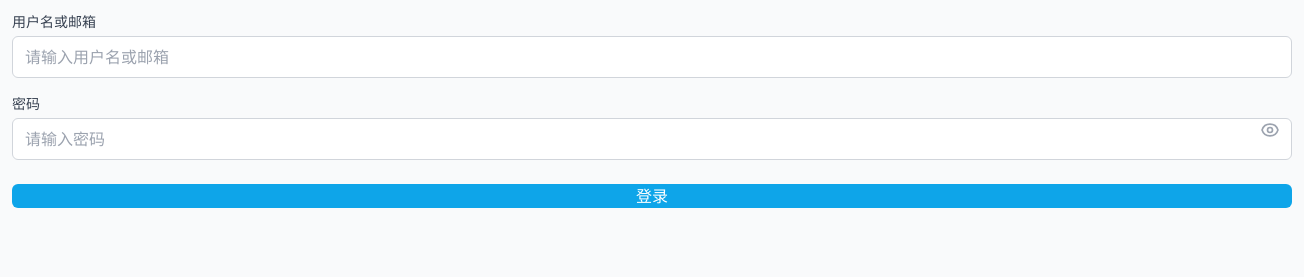
Scenario: LoginForm - 表单验证 › 无效的邮箱格式应该显示错误提示
In the field labelled "用户名或邮箱": x=652, y=57 [12,36,1292,78], type "invalid@"
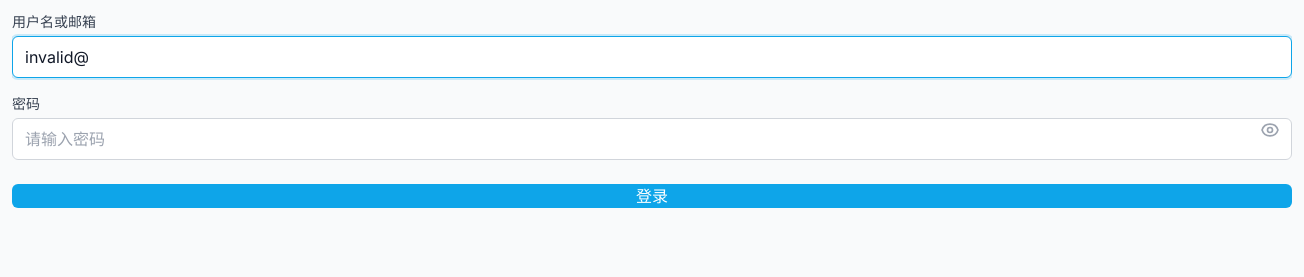
Click the button "登录": x=652, y=196 [12,184,1292,208]
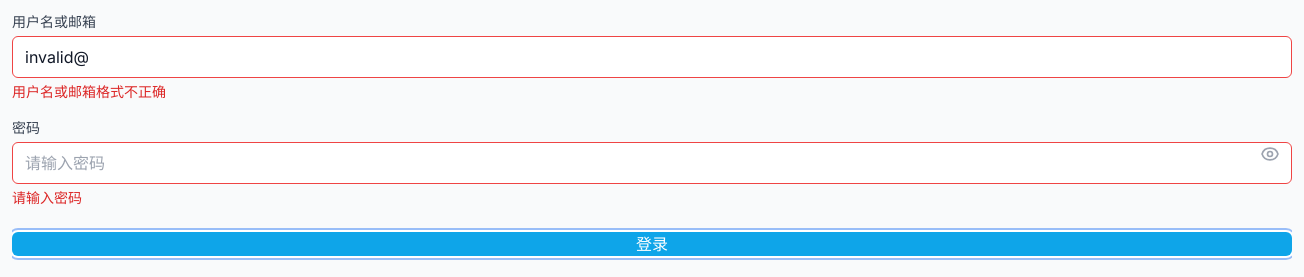
Check: the text "用户名或邮箱格式不正确" is shown, box [12,83,166,100]
